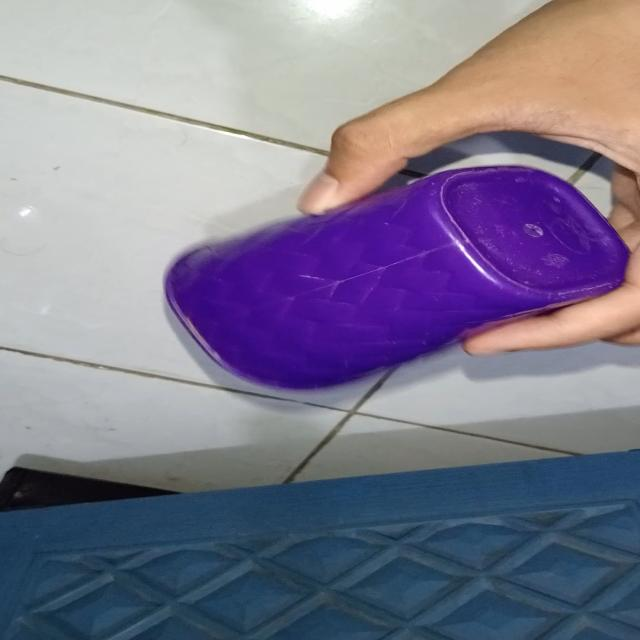gelas bekas: (161, 164, 632, 394)
